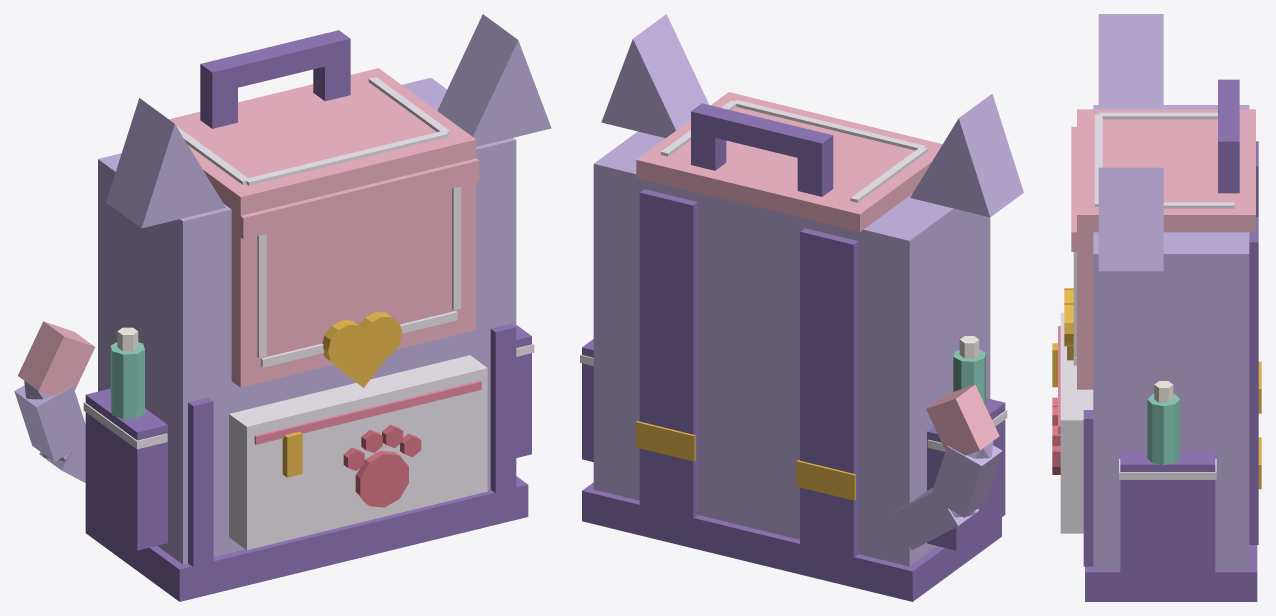
The model's file is CatCafe_Item_Backpack.glb.
The picture shows the model from 3 angles, left to right: view 1: azimuth 30°, elevation 25°; view 2: azimuth 150°, elevation 25°; view 3: azimuth 270°, elevation 25°; orthographic projection. The views are drawn at different scales.
Visible parts, largest first — view 1: CatCafe_Item_Backpack, CatCafe_Item_Backpack_Flap; view 2: CatCafe_Item_Backpack, CatCafe_Item_Backpack_Flap; view 3: CatCafe_Item_Backpack, CatCafe_Item_Backpack_Flap.
Part boxes in pixels (bbox=[...]): CatCafe_Item_Backpack: bbox=[14, 14, 551, 601]; CatCafe_Item_Backpack_Flap: bbox=[169, 68, 479, 239]; CatCafe_Item_Backpack: bbox=[580, 14, 1023, 601]; CatCafe_Item_Backpack_Flap: bbox=[636, 92, 942, 231]; CatCafe_Item_Backpack: bbox=[1052, 14, 1261, 601]; CatCafe_Item_Backpack_Flap: bbox=[1071, 109, 1255, 251].
Bounding box in the file's own units: 1.76 × 1.76 × 0.77.
1 material, 1 textured.
